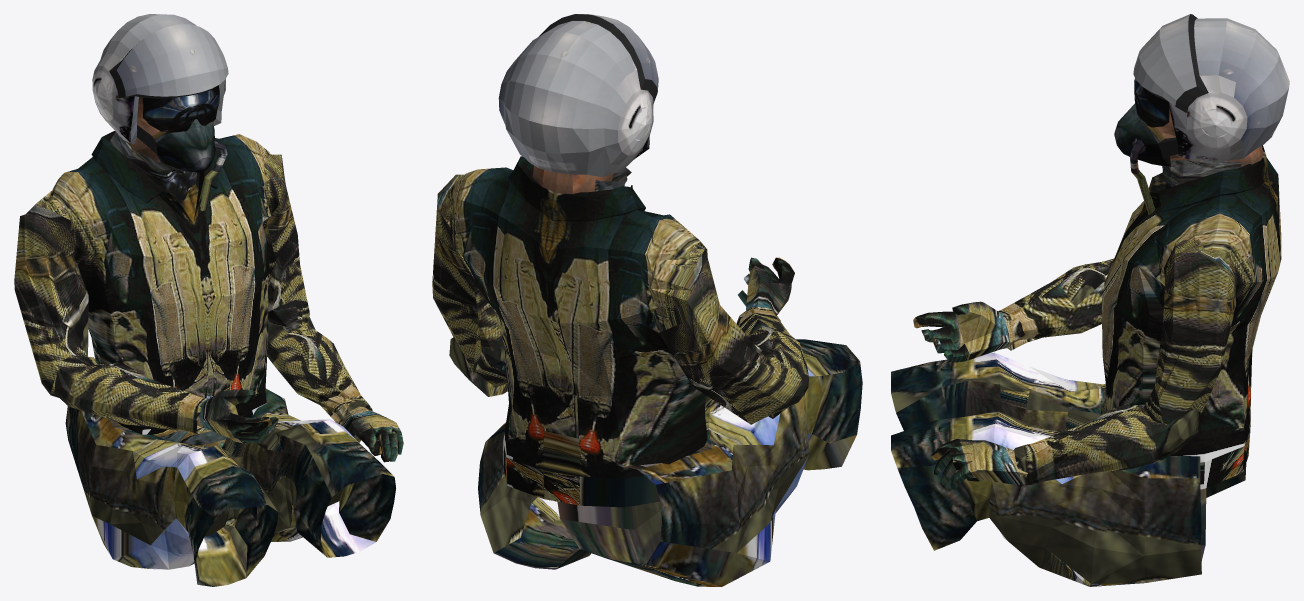
File: fighter_default.obj
3 renders of one model, left to right at view 1: azimuth 30°, elevation 25°; view 2: azimuth 150°, elevation 25°; view 3: azimuth 270°, elevation 25°, orthographic. The views are drawn at different scales.
Parts seen in each view (by area): view 1: corps, tete, avantbras, bras, lunettes, main; view 2: corps, tete, bras, avantbras; view 3: corps, tete, bras, avantbras, main, lunettes.
Boxes of the visible parts, x1,y1,x2,y2 form: corps: [14, 131, 395, 586]; tete: [92, 14, 228, 211]; avantbras: [267, 317, 372, 425]; bras: [263, 154, 309, 329]; lunettes: [143, 85, 219, 132]; main: [342, 406, 403, 462]; corps: [447, 156, 862, 586]; tete: [498, 14, 658, 193]; bras: [432, 174, 504, 372]; avantbras: [449, 337, 507, 396]; corps: [891, 145, 1281, 586]; tete: [1114, 14, 1289, 214]; bras: [1141, 239, 1237, 425]; avantbras: [1014, 404, 1200, 485]; main: [931, 439, 1027, 489]; lunettes: [1134, 78, 1169, 127].
Bounding box in the file's own units: 0.5785 × 0.9736 × 0.658.
Materials: 2 (2 with a texture image).
